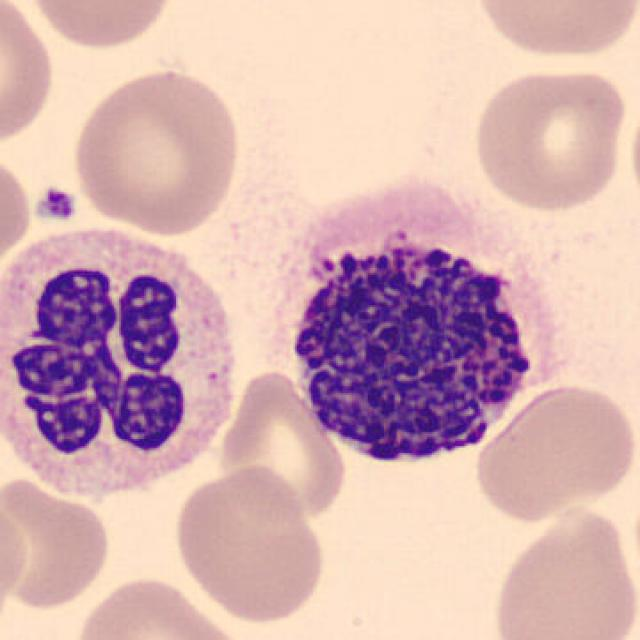Basophil: (277, 215, 560, 480)
Neutrophil: (0, 215, 254, 513)
Platelets: (30, 183, 80, 226)
RBC: (68, 65, 244, 238), (169, 464, 331, 626), (468, 64, 631, 214), (470, 381, 638, 524), (215, 365, 349, 525), (488, 500, 638, 640), (0, 472, 114, 616), (69, 573, 247, 640), (471, 0, 638, 63), (0, 0, 59, 152), (22, 0, 180, 53), (0, 148, 34, 277), (0, 484, 32, 620), (626, 77, 640, 224)
